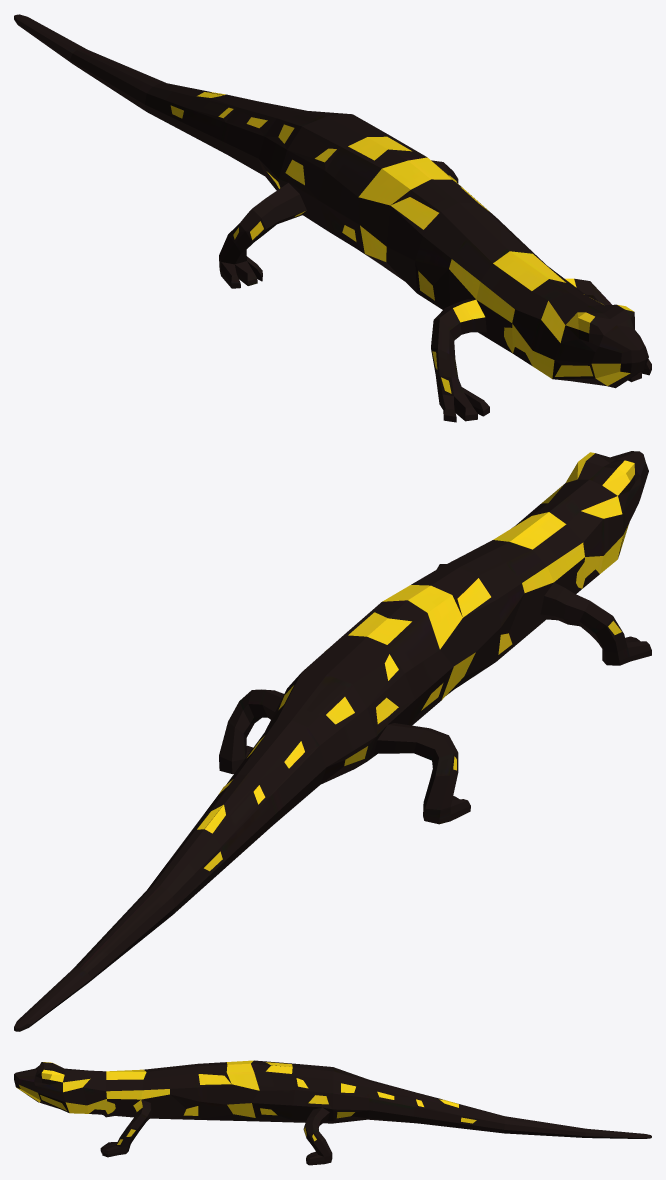
File: 0z3NJc5zAE.glb
The picture shows the model from 3 angles, top to bottom: view 1: azimuth 30°, elevation 25°; view 2: azimuth 150°, elevation 25°; view 3: azimuth 270°, elevation 25°; orthographic projection. The views are drawn at different scales.
Parts seen in each view (by area): view 1: 15lizardFinal; view 2: 15lizardFinal; view 3: 15lizardFinal.
Part boxes in pixels (x1,y1,x2,y2): 15lizardFinal: (14,14,651,422); 15lizardFinal: (14,451,651,1031); 15lizardFinal: (14,1060,651,1165).
Size of the model in its own units: 0.2229 by 0.1284 by 1.
Materials: 1 (1 with a texture image).
